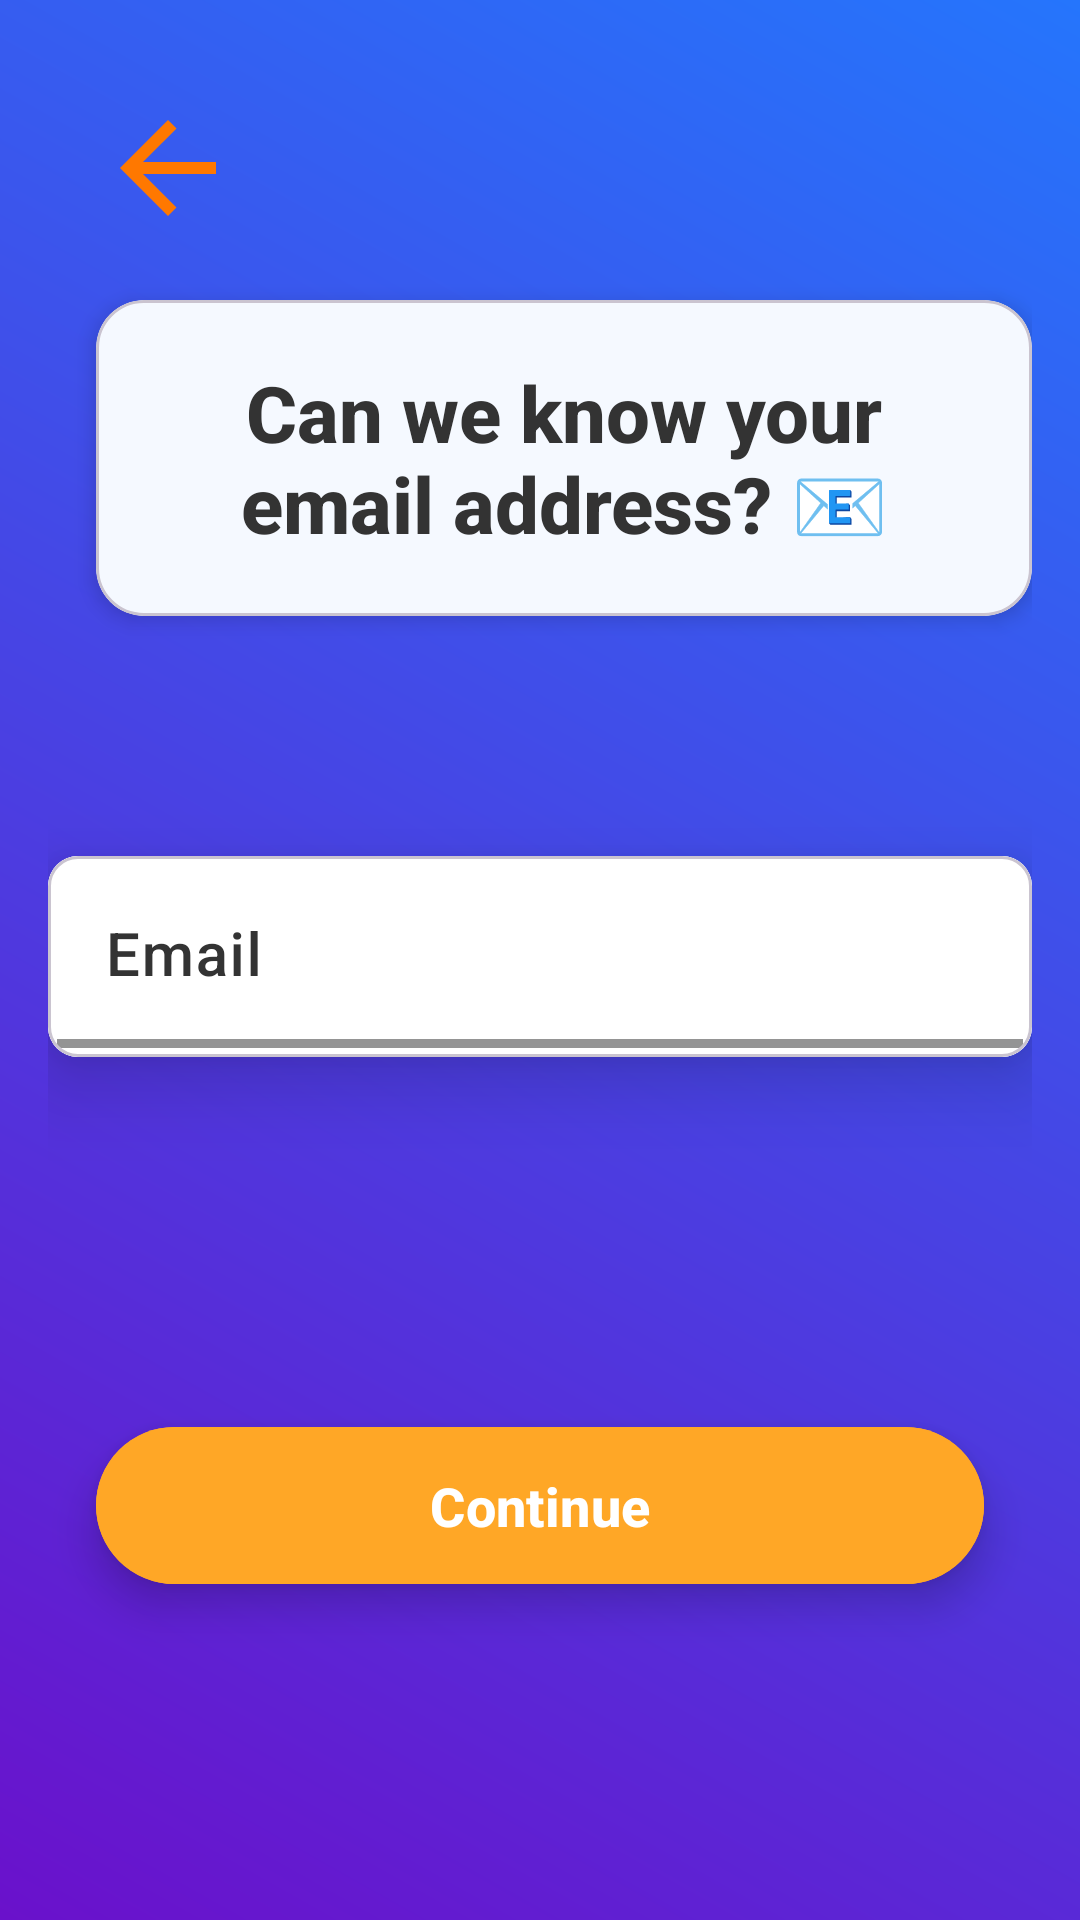

Where icons sit on this 1080px x 1920px app screen, as (x1, y1, x2, y2):
Back Icon: (120, 120, 216, 216)
